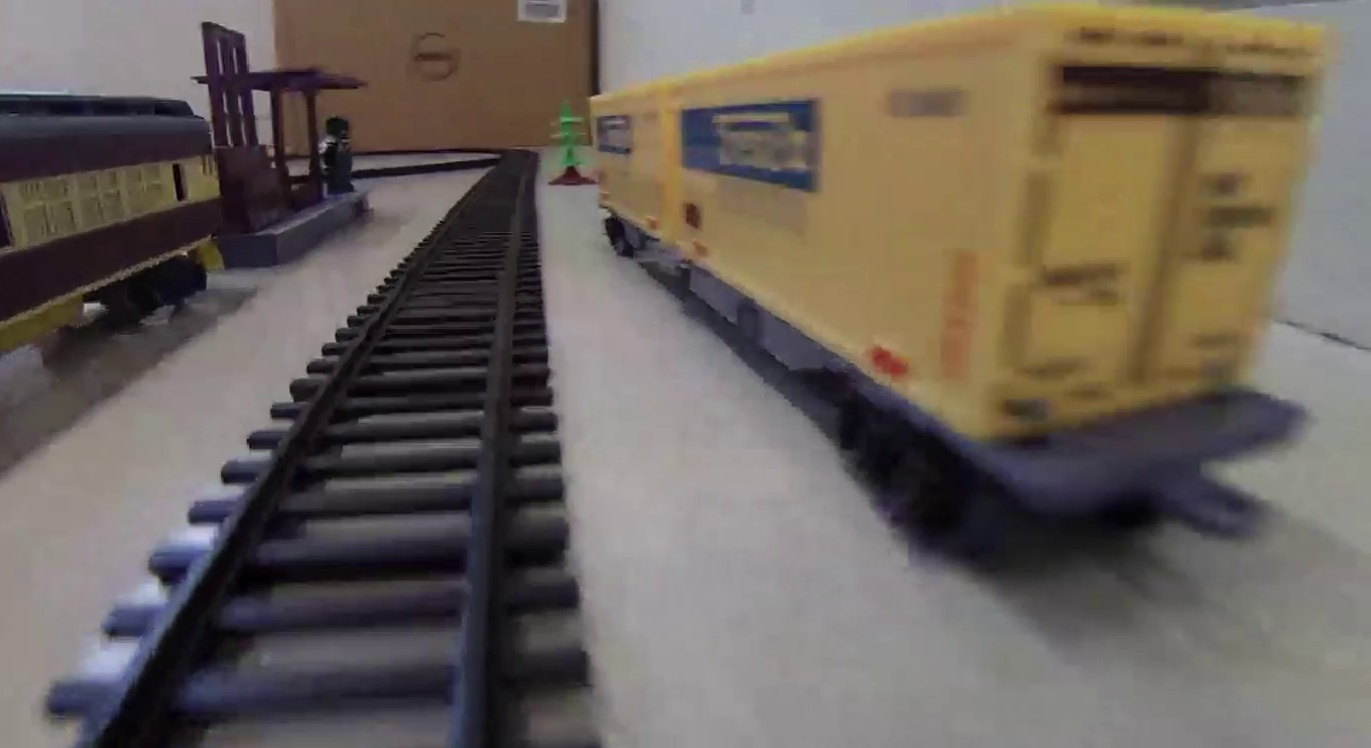people: (319, 116, 355, 194)
tree: (544, 97, 595, 186)
